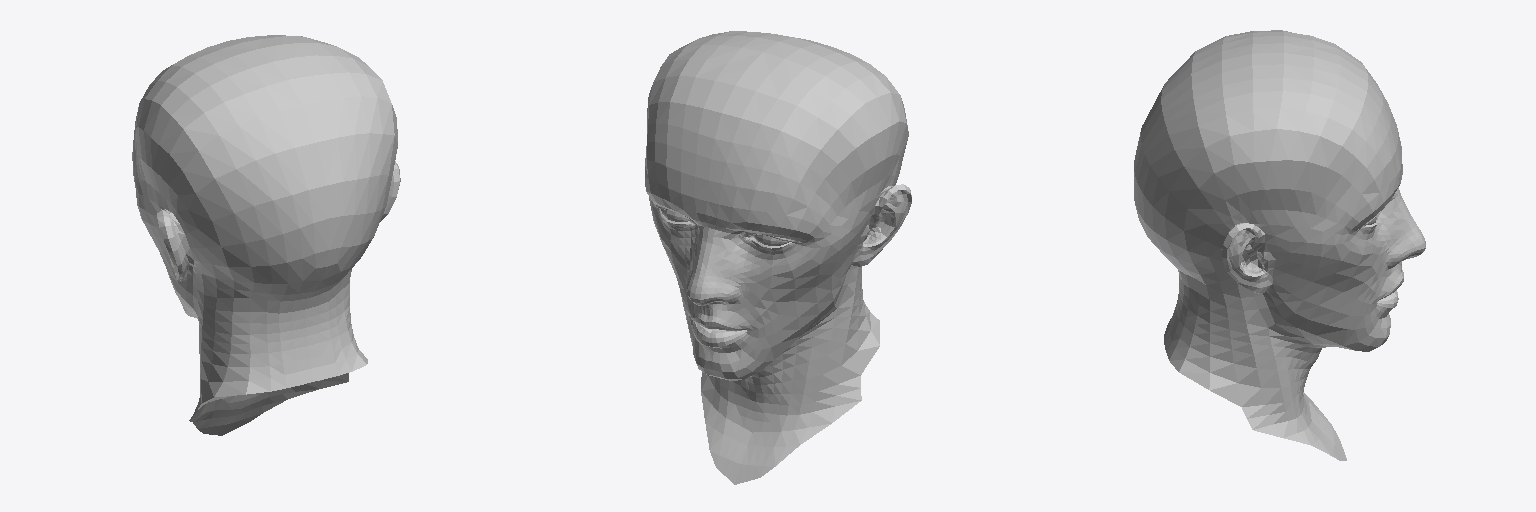
Rendered from bigHead.obj.
3 views of the same model, side by side, from view 1: azimuth 30°, elevation 25°; view 2: azimuth 150°, elevation 25°; view 3: azimuth 270°, elevation 25° (orthographic).
Parts seen in each view (by area): view 1: mesh0; view 2: mesh0; view 3: mesh0.
Boxes of the visible parts, x1,y1,x2,y2 form: mesh0: [132, 35, 400, 435]; mesh0: [645, 31, 911, 484]; mesh0: [1134, 30, 1425, 460].
Bounding box in the file's own units: 20.15 × 32.87 × 21.31.